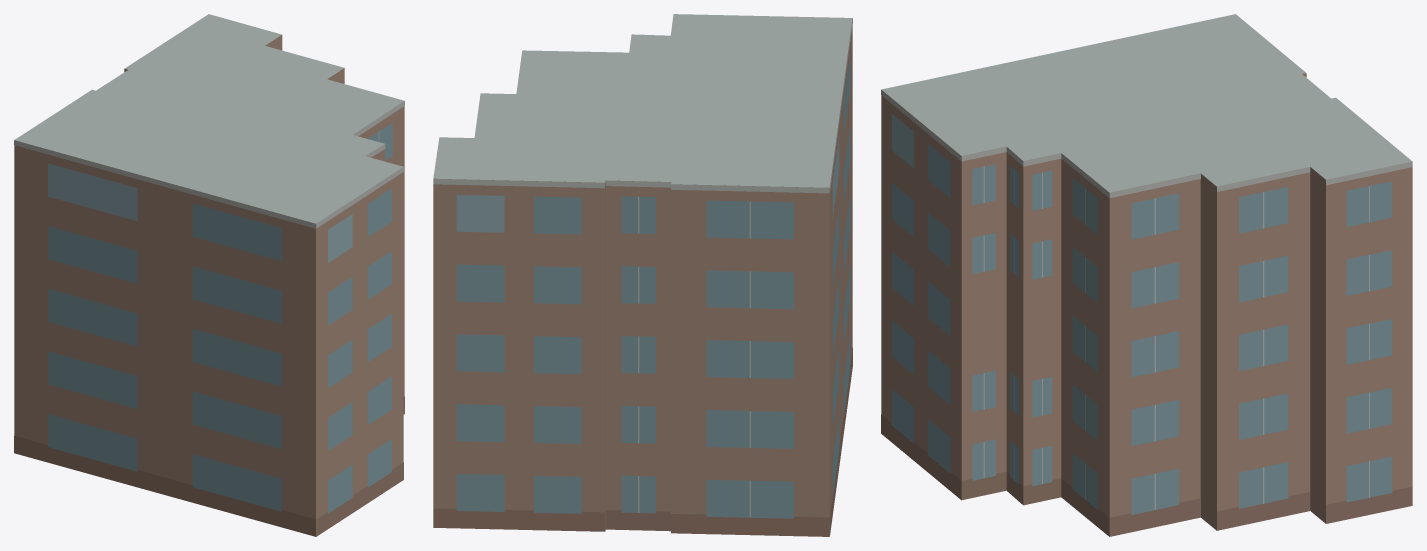
The model's file is survey-upis-32994359.glb.
3 renders of one model, left to right at view 1: azimuth 30°, elevation 25°; view 2: azimuth 150°, elevation 25°; view 3: azimuth 270°, elevation 25°, orthographic. The views are drawn at different scales.
Visible parts, largest first — view 1: survey-upis-32994359.tmp; view 2: survey-upis-32994359.tmp; view 3: survey-upis-32994359.tmp.
Part boxes in pixels (bbox=[...]): survey-upis-32994359.tmp: bbox=[14, 14, 404, 536]; survey-upis-32994359.tmp: bbox=[433, 14, 852, 536]; survey-upis-32994359.tmp: bbox=[881, 14, 1412, 536].
Bounding box in the file's own units: 16.99 × 15.25 × 21.36.
